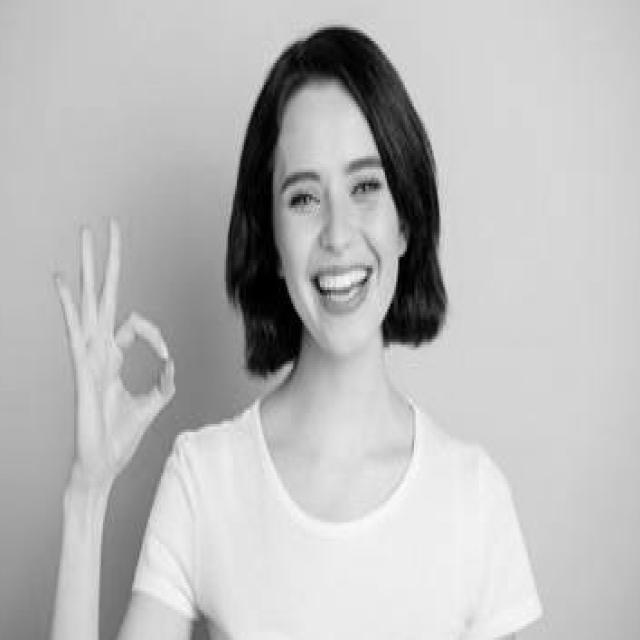perfect: (49, 202, 180, 514)
